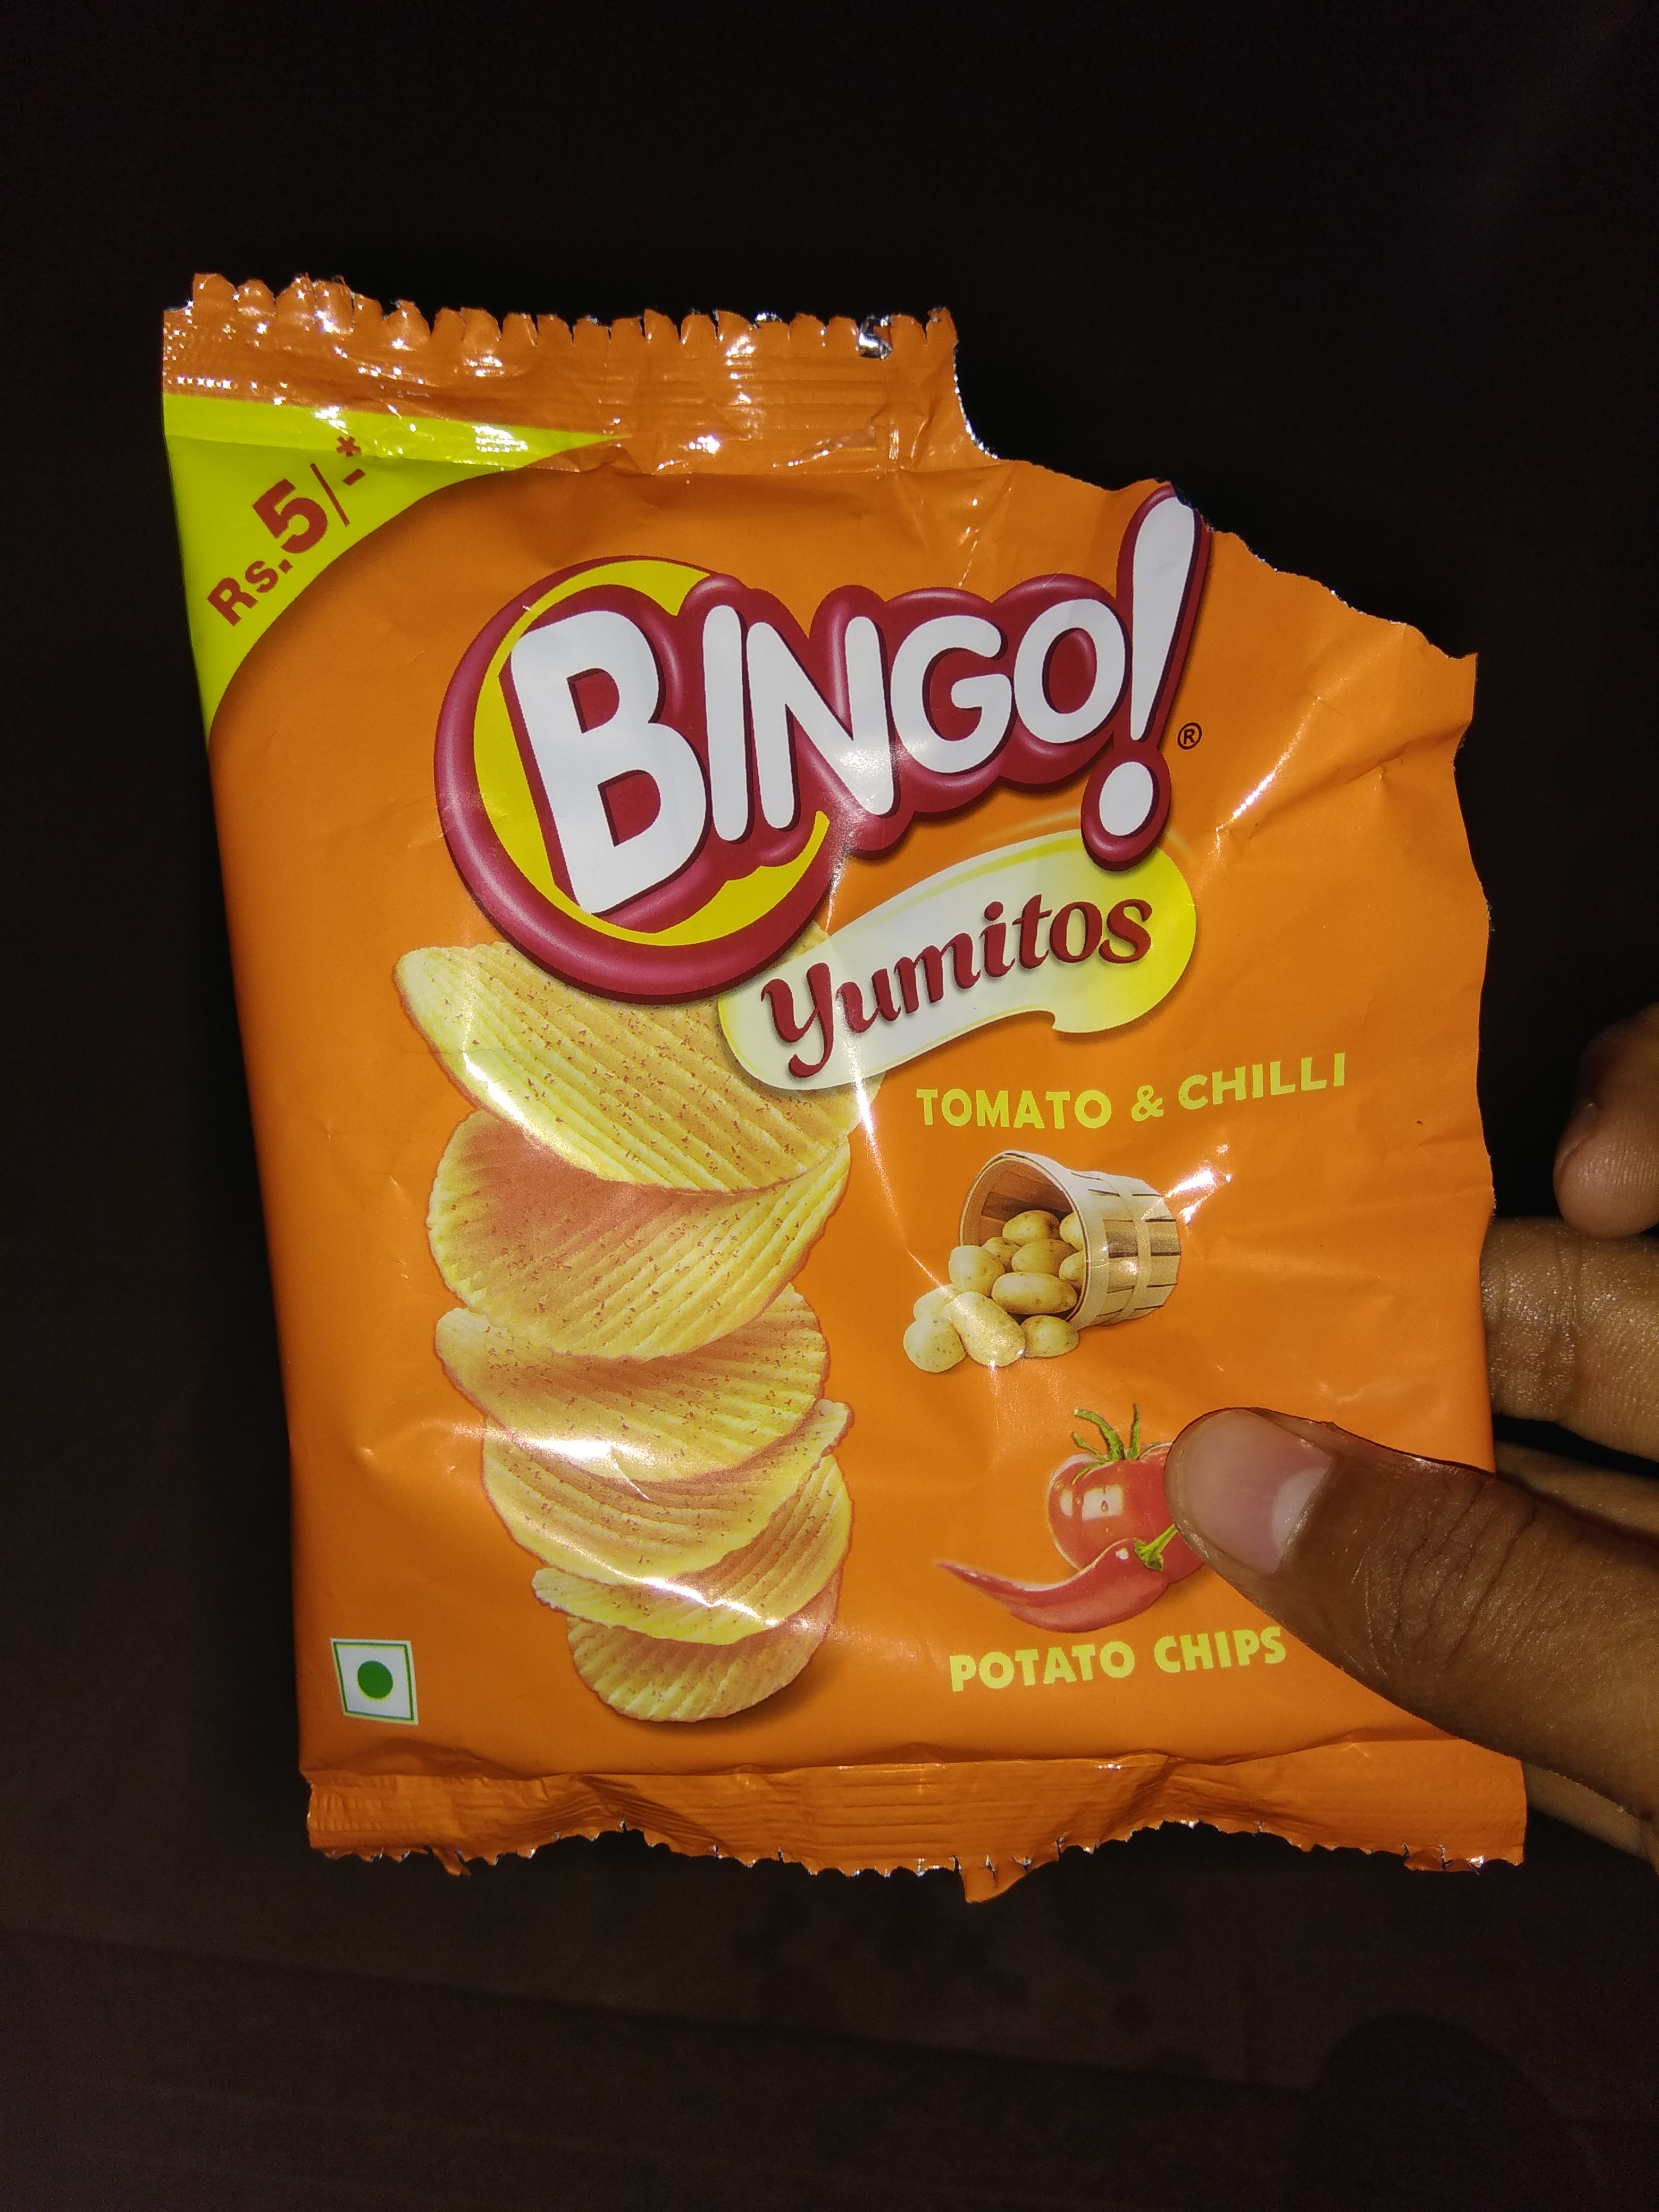VEG: (333, 1634, 425, 1730)
